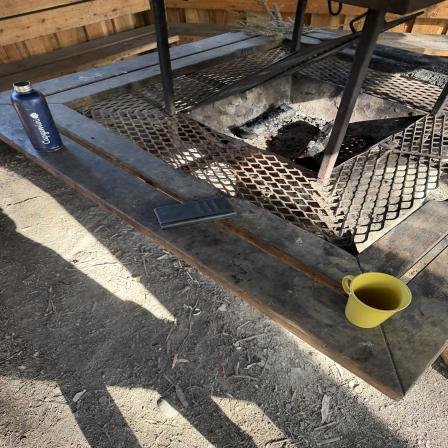blue_bottle: (12, 80, 66, 157)
phone: (156, 197, 239, 229)
yellow_cup: (342, 273, 410, 332)
